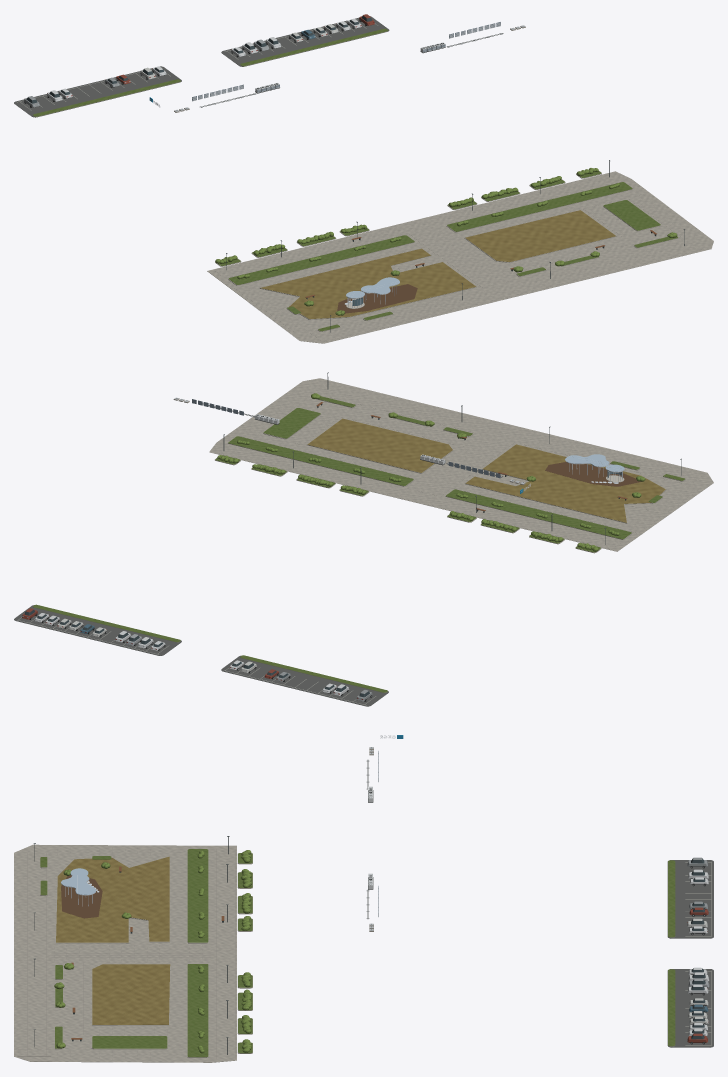
Rendered from campus-video-surroundings-v2.glb.
3 renders of one model, top to bottom at view 1: azimuth 30°, elevation 25°; view 2: azimuth 150°, elevation 25°; view 3: azimuth 270°, elevation 25°, orthographic. The views are drawn at different scales.
Visible parts, largest first — view 1: 错缝石材、草坪、土床和矮边石, 浅标线停车带、轿车和越野车, 建筑侧低矮树篱, 机组、圆形风扇、风口百叶、走管和检修盖, 曲线白色顶棚、轻钢细柱、圆亭及座椅; view 2: 错缝石材、草坪、土床和矮边石, 浅标线停车带、轿车和越野车, 建筑侧低矮树篱, 曲线白色顶棚、轻钢细柱、圆亭及座椅, 机组、圆形风扇、风口百叶、走管和检修盖; view 3: 错缝石材、草坪、土床和矮边石, 浅标线停车带、轿车和越野车, 建筑侧低矮树篱, 曲线白色顶棚、轻钢细柱、圆亭及座椅.
Part boxes in pixels (x1,y1,x2,y2): 错缝石材、草坪、土床和矮边石: [207, 171, 713, 343]; 浅标线停车带、轿车和越野车: [14, 14, 389, 117]; 建筑侧低矮树篱: [215, 168, 677, 315]; 机组、圆形风扇、风口百叶、走管和检修盖: [149, 22, 525, 112]; 曲线白色顶棚、轻钢细柱、圆亭及座椅: [226, 160, 684, 332]; 错缝石材、草坪、土床和矮边石: [209, 378, 713, 553]; 浅标线停车带、轿车和越野车: [14, 604, 388, 706]; 建筑侧低矮树篱: [217, 393, 645, 551]; 曲线白色顶棚、轻钢细柱、圆亭及座椅: [223, 372, 681, 544]; 机组、圆形风扇、风口百叶、走管和检修盖: [173, 397, 525, 493]; 错缝石材、草坪、土床和矮边石: [14, 844, 252, 1062]; 浅标线停车带、轿车和越野车: [667, 857, 713, 1047]; 建筑侧低矮树篱: [54, 850, 251, 1053]; 曲线白色顶棚、轻钢细柱、圆亭及座椅: [33, 836, 229, 1054].
Bounding box in the file's own units: 87.8 × 23.04 × 119.
35 materials, 3 textured.
